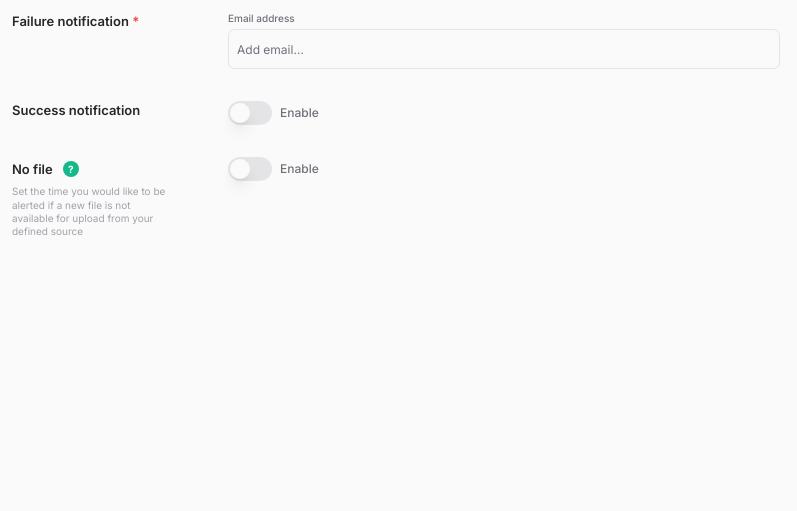
NotificationsStep — No File frequency-specific content › shows day-of-week buttons for Weekly frequency
Click the switch named "Enable" in the row of "No file".
click(250, 169)  # box 228,157 -> 272,181
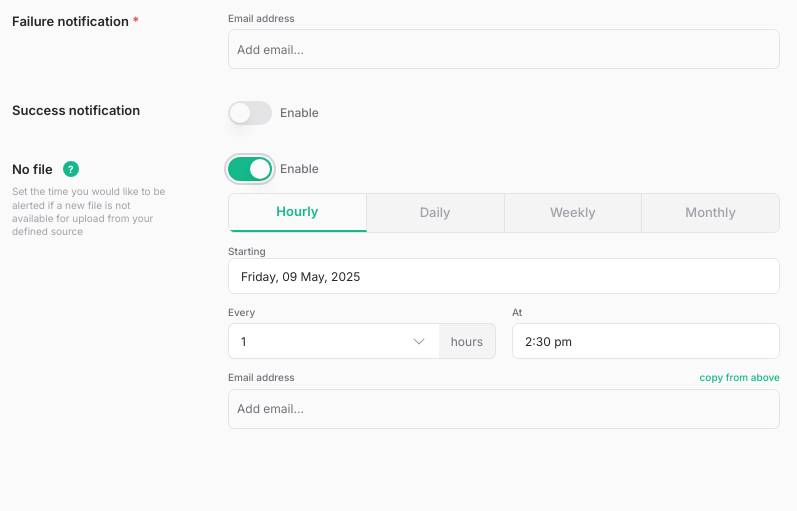
Click the radio button labelled "Weekly".
click(573, 213)  # box 504,194 -> 642,232
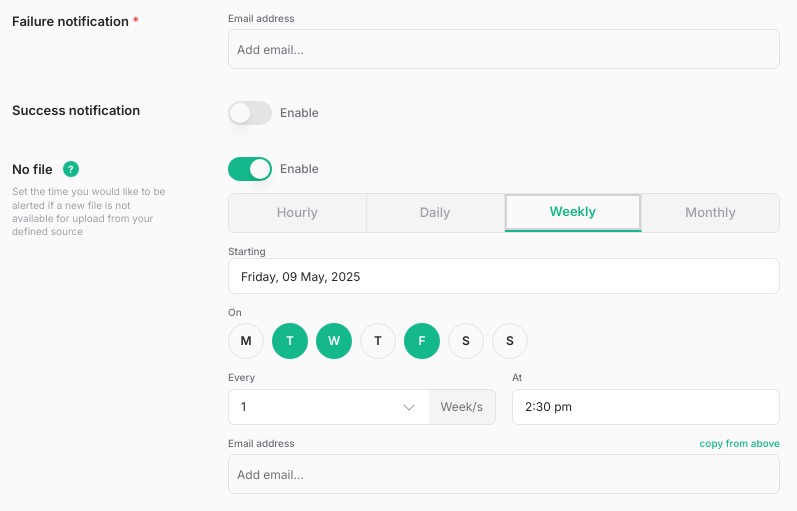
Expected: the text "On" is shown, 228,306 -> 242,318
Expected: the text "Week/s" is shown, 428,389 -> 496,425
